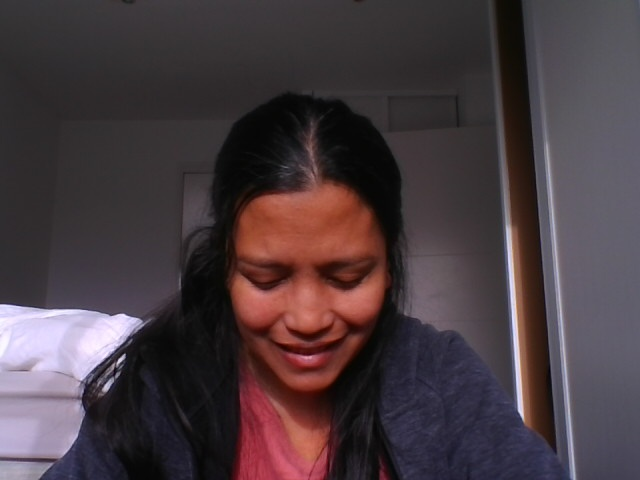face: (228, 181, 386, 394)
